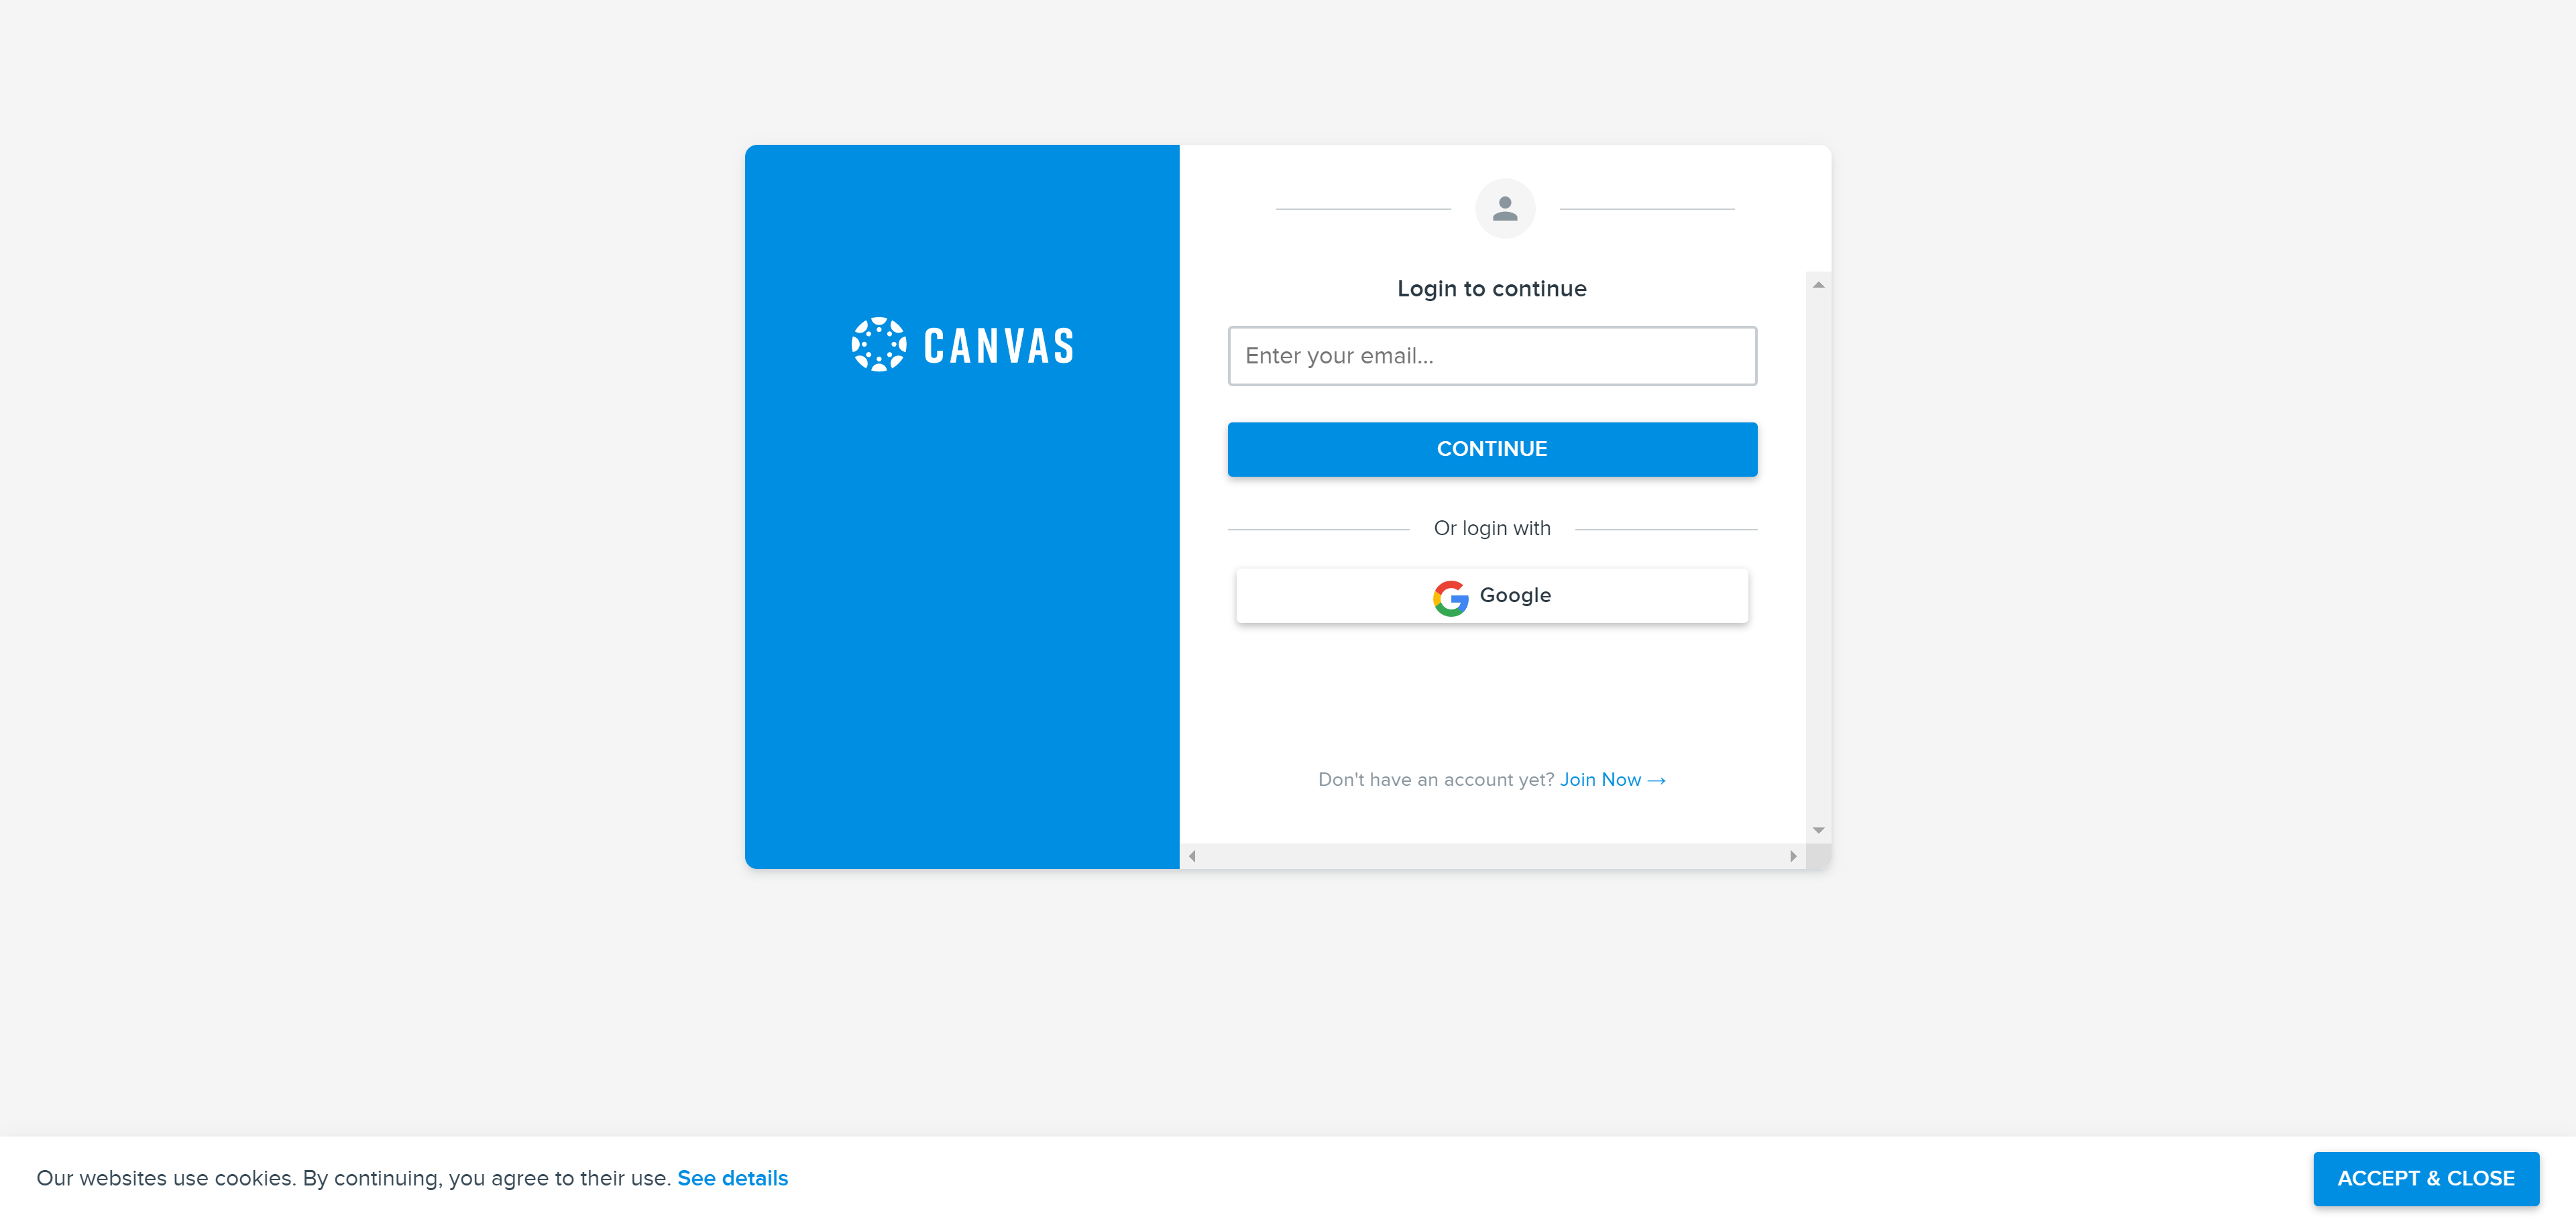login_button: (1227, 422, 1758, 478)
login_form: (1219, 314, 1769, 486)
